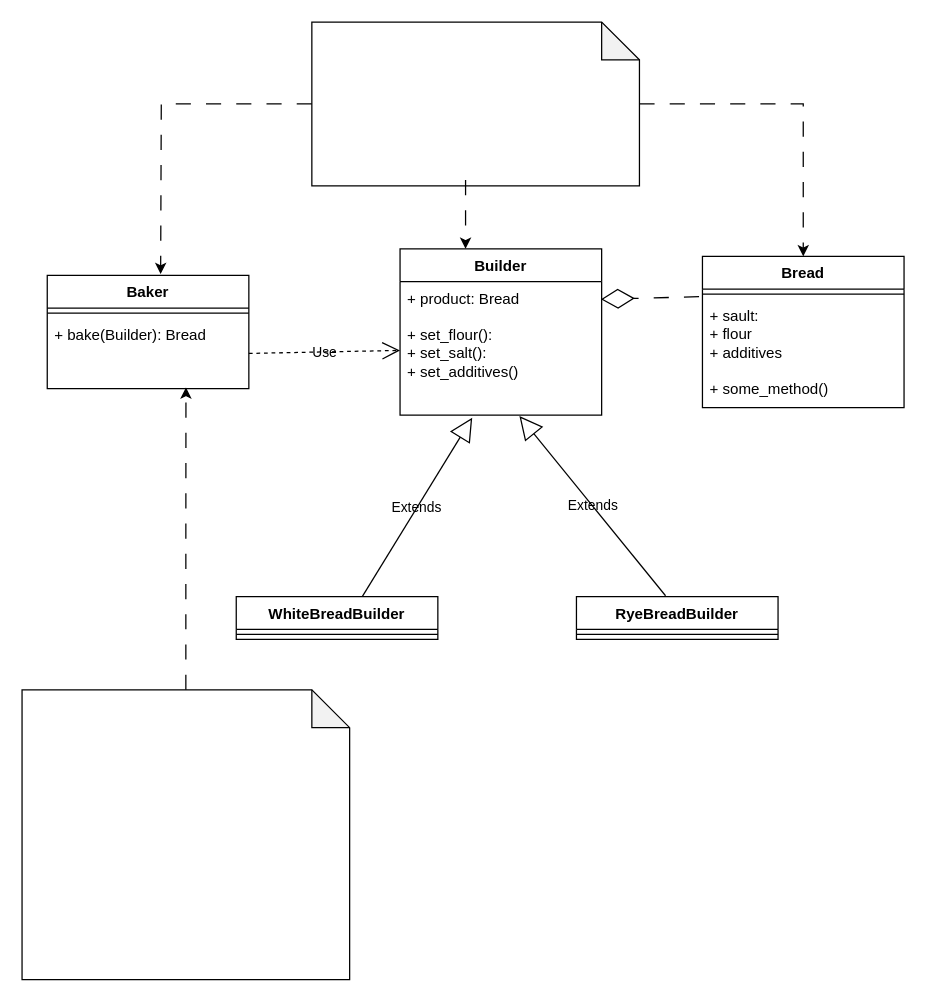
This 926x1002 diagram has some shape labels left out. The centre of each missing label's shape, as x and y in pixels:
Bake(bb:Builder) bb.set_flour() bb.set_salt() bb.set_additives(): the point at 185,834
product = Baker().bake(WhiteBreadBuilder) product.some_method(): the point at 475,103
